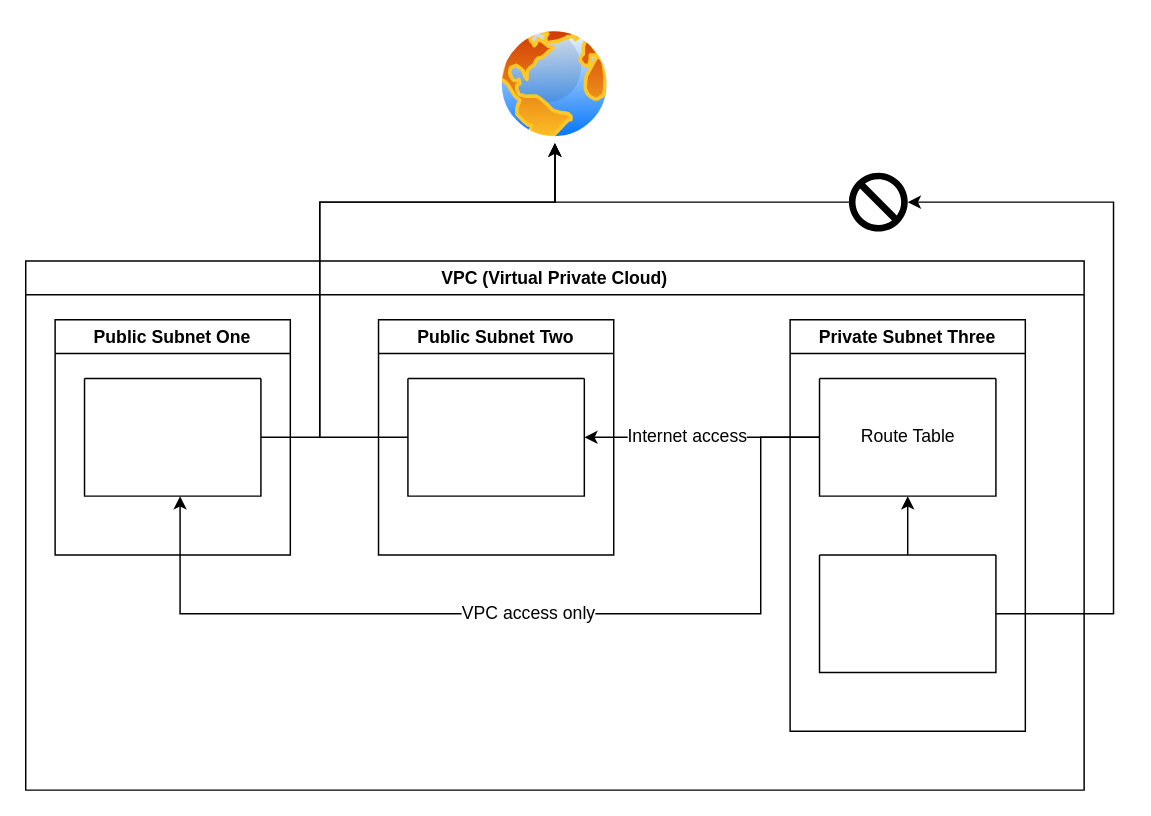
The diagram is 1151 pixels wide and 816 high, and some of its shapes have lost their labels. Here are the shapes that lost their labels. From the top down, the centre of each, then its label:
(172,436): EC2 Instance with a public IP address
(495,436): Public NAT Gateway
(907,613): EC2 instance without a public IP address
